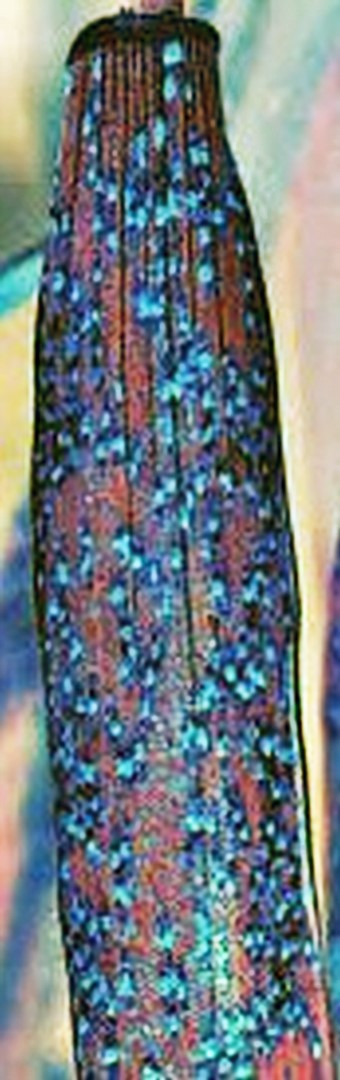Leaf Rust: (25, 70, 340, 1061)
